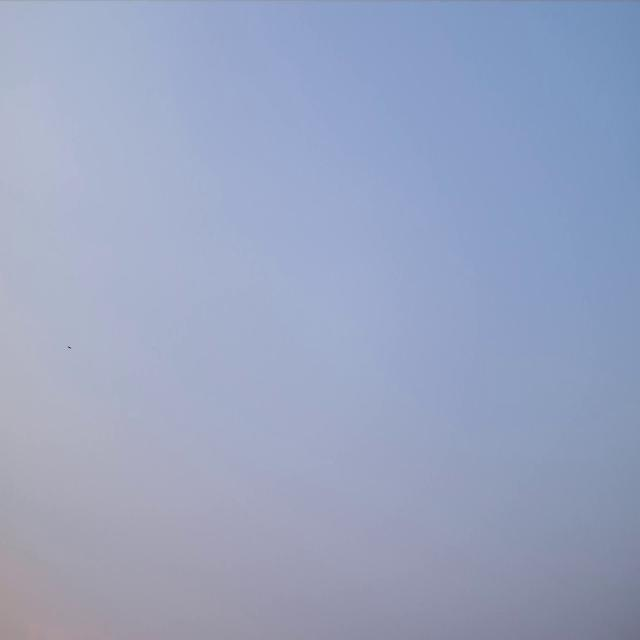UAV: (67, 345, 71, 350)
